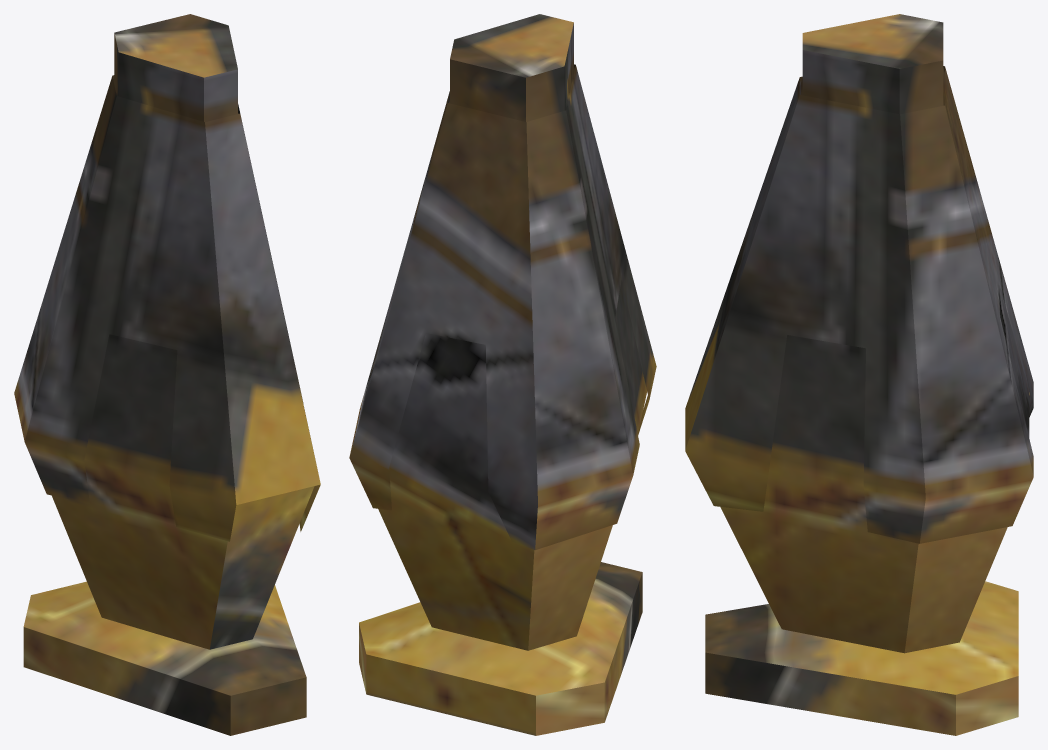
The model's file is yw_huanghunbianjing_zawu01.FBX.
3 views of the same model, side by side, from view 1: azimuth 30°, elevation 25°; view 2: azimuth 150°, elevation 25°; view 3: azimuth 270°, elevation 25° (orthographic). The views are drawn at different scales.
Visible parts, largest first — view 1: yw_huanghunbianjing_zawu01; view 2: yw_huanghunbianjing_zawu01; view 3: yw_huanghunbianjing_zawu01.
Boxes of the visible parts, x1,y1,x2,y2 form: yw_huanghunbianjing_zawu01: (14, 14, 320, 735); yw_huanghunbianjing_zawu01: (349, 14, 656, 735); yw_huanghunbianjing_zawu01: (685, 14, 1033, 735).
Size of the model in its own units: 36.53 by 79.12 by 39.48.
